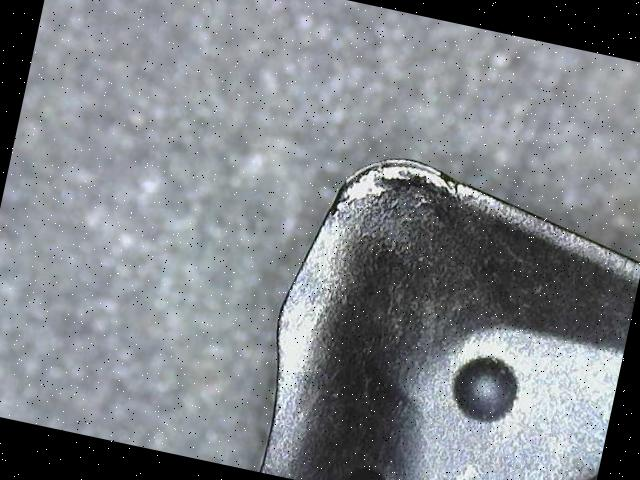normal: (263, 232, 332, 480), (461, 199, 638, 287)
wear: (331, 161, 483, 218)
